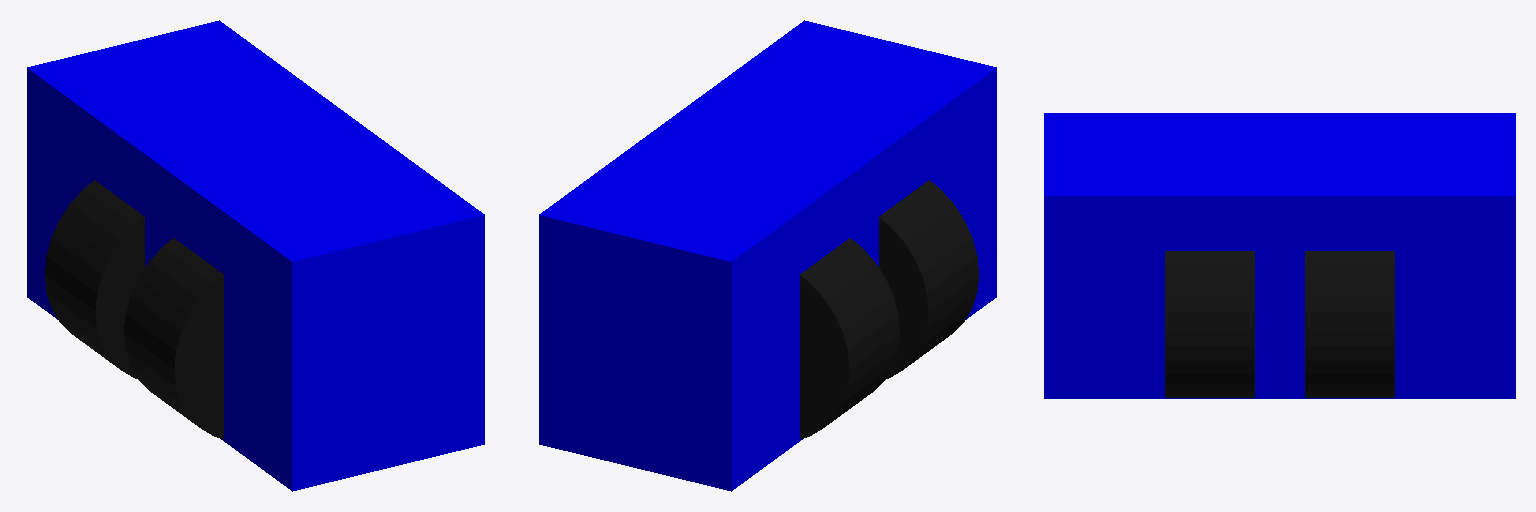
The robot description file, URDF, robot "skj":
<?xml version="1.0" ?>
<!-- =================================================================================== -->
<!-- |    This document was autogenerated by xacro from seekurjr.urdf.xacro            | -->
<!-- |    EDITING THIS FILE BY HAND IS NOT RECOMMENDED                                 | -->
<!-- =================================================================================== -->
<robot name="skj" xmlns:controller="http://playerstage.sourceforge.net/gazebo/xmlschema/#controller" xmlns:interface="http://playerstage.sourceforge.net/gazebo/xmlschema/#interface" xmlns:sensor="http://playerstage.sourceforge.net/gazebo/xmlschema/#sensor" xmlns:xacro="http://ros.org/wiki/xacro">
  <!-- Chassis -->
  <link name="base_link">
    <inertial>
      <mass value="63.2"/>
      <origin xyz="0 0 0.177"/>
      <inertia ixx="0.3338" ixy="0.0" ixz="0.0" iyy="0.4783" iyz="0.0" izz="0.3338"/>
    </inertial>
    <visual name="skj_base_visual">
      <origin rpy="0 0 0" xyz="0 0 0.177"/>
      <geometry name="skj_geom">
        <!-- mesh filename="package://amr_robots_description/meshes/seekurjr_meshes/body.stl"/ -->
        <box size="0.440 1.050 0.500"/>
      </geometry>
      <material name="BodyBlue">
        <color rgba="0.0 0.0 1.0 1.0"/>
      </material>
    </visual>
    <collision>
      <origin rpy="0 0 0" xyz="0 0 0.177"/>
      <geometry>
        <!-- mesh filename="package://amr_robots_description/meshes/seekurjr_meshes/body_collision.stl"/ -->
        <box size="0.440 1.050 0.500"/>
      </geometry>
    </collision>
  </link>
  <gazebo reference="base_link">
    <material value="Gazebo/Blue"/>
  </gazebo>
  <link name="skj_front_left_wheel">
    <inertial>
      <mass value="4.2"/>
      <origin xyz="0 0 0"/>
      <inertia ixx="0.012411765597" ixy="0" ixz="0" iyy="0.015218160428" iyz="0" izz="0.011763977943"/>
    </inertial>
    <visual name="base_visual">
      <origin rpy="-1.570795 0 0" xyz="0 0 0"/>
      <geometry name="skj_wheel_geom">
        <!-- mesh filename="package://amr_robots_description/meshes/skj_meshes/wheel.stl"/ -->
        <cylinder length="0.2" radius="0.2"/>
      </geometry>
      <material name="WheelBlack">
        <color rgba="0.117 0.117 0.117 1"/>
      </material>
    </visual>
    <collision>
      <origin rpy="-1.57079635 0 0" xyz="0 0 0"/>
      <geometry>
        <cylinder length="0.2" radius="0.2"/>
      </geometry>
    </collision>
  </link>
  <gazebo reference="skj_front_left_wheel">
    <material value="Gazebo/Black"/>
  </gazebo>
  <joint name="skj_front_left_wheel_joint" type="continuous">
    <axis xyz="0 1 0"/>
    <anchor xyz="0 0 0"/>
    <limit effort="100" velocity="100"/>
    <joint_properties damping="0.7"/>
    <origin rpy="0 0 0" xyz="-0.134 0.156 0.111"/>
    <parent link="base_link"/>
    <child link="skj_front_left_wheel"/>
  </joint>
  <gazebo reference="skj_front_left_wheel">
    <kp>1000000.0</kp>
    <!-- kp and kd for rubber -->
    <kd>100.0</kd>
    <mu1>1.0</mu1>
    <!-- was 10.0 -->
    <mu2>1.0</mu2>
    <!-- todo how to get these ODE params in: slip1, slip2 -->
    <!-- fdir1 0 1 0 /fdir1 -->
    <!-- see http://github.com/MobileRobots/amr-ros-config/issues/6 -->
    <maxVel>1.0</maxVel>
    <minDepth>0.00</minDepth>
    <material value="Gazebo/Black"/>
  </gazebo>
  <link name="skj_front_right_wheel">
    <inertial>
      <mass value="4.2"/>
      <origin xyz="0 0 0"/>
      <inertia ixx="0.012411765597" ixy="0" ixz="0" iyy="0.015218160428" iyz="0" izz="0.011763977943"/>
    </inertial>
    <visual name="base_visual">
      <origin rpy="-1.570795 0 0" xyz="0 0 0"/>
      <geometry name="skj_wheel_geom">
        <!-- mesh filename="package://amr_robots_description/meshes/skj_meshes/wheel.stl"/ -->
        <cylinder length="0.2" radius="0.2"/>
      </geometry>
      <material name="WheelBlack">
        <color rgba="0.117 0.117 0.117 1"/>
      </material>
    </visual>
    <collision>
      <origin rpy="-1.57079635 0 0" xyz="0 0 0"/>
      <geometry>
        <cylinder length="0.2" radius="0.2"/>
      </geometry>
    </collision>
  </link>
  <gazebo reference="skj_front_right_wheel">
    <material value="Gazebo/Black"/>
  </gazebo>
  <joint name="skj_front_right_wheel_joint" type="continuous">
    <axis xyz="0 1 0"/>
    <anchor xyz="0 0 0"/>
    <limit effort="100" velocity="100"/>
    <joint_properties damping="0.7"/>
    <origin rpy="0 0 0" xyz="-0.134 -0.156 0.111"/>
    <parent link="base_link"/>
    <child link="skj_front_right_wheel"/>
  </joint>
  <gazebo reference="skj_front_right_wheel">
    <kp>1000000.0</kp>
    <!-- kp and kd for rubber -->
    <kd>100.0</kd>
    <mu1>1.0</mu1>
    <!-- was 10.0 -->
    <mu2>1.0</mu2>
    <!-- todo how to get these ODE params in: slip1, slip2 -->
    <!-- fdir1 0 1 0 /fdir1 -->
    <!-- see http://github.com/MobileRobots/amr-ros-config/issues/6 -->
    <maxVel>1.0</maxVel>
    <minDepth>0.00</minDepth>
    <material value="Gazebo/Black"/>
  </gazebo>
  <link name="skj_back_left_wheel">
    <inertial>
      <mass value="4.2"/>
      <origin xyz="0 0 0"/>
      <inertia ixx="0.012411765597" ixy="0" ixz="0" iyy="0.015218160428" iyz="0" izz="0.011763977943"/>
    </inertial>
    <visual name="base_visual">
      <origin rpy="-1.570795 0 0" xyz="0 0 0"/>
      <geometry name="skj_wheel_geom">
        <!-- mesh filename="package://amr_robots_description/meshes/skj_meshes/wheel.stl"/ -->
        <cylinder length="0.2" radius="0.2"/>
      </geometry>
      <material name="WheelBlack">
        <color rgba="0.117 0.117 0.117 1"/>
      </material>
    </visual>
    <collision>
      <origin rpy="-1.57079635 0 0" xyz="0 0 0"/>
      <geometry>
        <cylinder length="0.2" radius="0.2"/>
      </geometry>
    </collision>
  </link>
  <gazebo reference="skj_back_left_wheel">
    <material value="Gazebo/Black"/>
  </gazebo>
  <joint name="skj_back_left_wheel_joint" type="continuous">
    <axis xyz="0 1 0"/>
    <anchor xyz="0 0 0"/>
    <limit effort="100" velocity="100"/>
    <joint_properties damping="0.7"/>
    <origin rpy="0 0 0" xyz="0.134 0.156 0.111"/>
    <parent link="base_link"/>
    <child link="skj_back_left_wheel"/>
  </joint>
  <gazebo reference="skj_back_left_wheel">
    <kp>1000000.0</kp>
    <!-- kp and kd for rubber -->
    <kd>100.0</kd>
    <mu1>1.0</mu1>
    <!-- was 10.0 -->
    <mu2>1.0</mu2>
    <!-- todo how to get these ODE params in: slip1, slip2 -->
    <!-- fdir1 0 1 0 /fdir1 -->
    <!-- see http://github.com/MobileRobots/amr-ros-config/issues/6 -->
    <maxVel>1.0</maxVel>
    <minDepth>0.00</minDepth>
    <material value="Gazebo/Black"/>
  </gazebo>
  <link name="skj_back_right_wheel">
    <inertial>
      <mass value="4.2"/>
      <origin xyz="0 0 0"/>
      <inertia ixx="0.012411765597" ixy="0" ixz="0" iyy="0.015218160428" iyz="0" izz="0.011763977943"/>
    </inertial>
    <visual name="base_visual">
      <origin rpy="-1.570795 0 0" xyz="0 0 0"/>
      <geometry name="skj_wheel_geom">
        <!-- mesh filename="package://amr_robots_description/meshes/skj_meshes/wheel.stl"/ -->
        <cylinder length="0.2" radius="0.2"/>
      </geometry>
      <material name="WheelBlack">
        <color rgba="0.117 0.117 0.117 1"/>
      </material>
    </visual>
    <collision>
      <origin rpy="-1.57079635 0 0" xyz="0 0 0"/>
      <geometry>
        <cylinder length="0.2" radius="0.2"/>
      </geometry>
    </collision>
  </link>
  <gazebo reference="skj_back_right_wheel">
    <material value="Gazebo/Black"/>
  </gazebo>
  <joint name="skj_back_right_wheel_joint" type="continuous">
    <axis xyz="0 1 0"/>
    <anchor xyz="0 0 0"/>
    <limit effort="100" velocity="100"/>
    <joint_properties damping="0.7"/>
    <origin rpy="0 0 0" xyz="0.134 -0.156 0.111"/>
    <parent link="base_link"/>
    <child link="skj_back_right_wheel"/>
  </joint>
  <gazebo reference="skj_back_right_wheel">
    <kp>1000000.0</kp>
    <!-- kp and kd for rubber -->
    <kd>100.0</kd>
    <mu1>1.0</mu1>
    <!-- was 10.0 -->
    <mu2>1.0</mu2>
    <!-- todo how to get these ODE params in: slip1, slip2 -->
    <!-- fdir1 0 1 0 /fdir1 -->
    <!-- see http://github.com/MobileRobots/amr-ros-config/issues/6 -->
    <maxVel>1.0</maxVel>
    <minDepth>0.00</minDepth>
    <material value="Gazebo/Black"/>
  </gazebo>
  <gazebo>
    <plugin filename="libgazebo_ros_skid_steer_drive.so" name="skid_steer_drive_controller">
      <updateRate>100.0</updateRate>
      <robotNamespace>/</robotNamespace>
      <leftFrontJoint>skj_front_left_wheel_joint</leftFrontJoint>
      <rightFrontJoint>skj_front_right_wheel_joint</rightFrontJoint>
      <leftRearJoint>skj_back_left_wheel_joint</leftRearJoint>
      <rightRearJoint>skj_back_right_wheel_joint</rightRearJoint>
      <wheelSeparation>0.68</wheelSeparation>
      <wheelDiameter>0.40</wheelDiameter>
      <robotBaseFrame>base_link</robotBaseFrame>
      <torque>400</torque>
      <MaxForce>5.0</MaxForce>
      <commandTopic>cmd_vel</commandTopic>
      <odometryTopic>odom</odometryTopic>
      <odometryFrame>odom</odometryFrame>
      <broadcastTF>1</broadcastTF>
    </plugin>
  </gazebo>
</robot>

--- Render facts (derived) ---
3 views of the same robot in one strip: view 1: azimuth 30°, elevation 25°; view 2: azimuth 150°, elevation 25°; view 3: azimuth 270°, elevation 25° (orthographic).
Robot: skj — 5 links, 4 joints (4 continuous); root link base_link; default pose: all joints at 0.
Visible links, largest first — view 1: base_link, skj_front_right_wheel, skj_front_left_wheel; view 2: base_link, skj_front_left_wheel, skj_front_right_wheel; view 3: base_link, skj_back_left_wheel, skj_back_right_wheel.
Boxes of the visible links, box(x1,y1,x2,y2) form: base_link: box(27, 20, 484, 491); skj_front_right_wheel: box(124, 238, 223, 438); skj_front_left_wheel: box(45, 180, 144, 378); base_link: box(539, 20, 996, 491); skj_front_left_wheel: box(800, 238, 899, 438); skj_front_right_wheel: box(879, 180, 978, 378); base_link: box(1044, 113, 1515, 398); skj_back_left_wheel: box(1305, 251, 1394, 397); skj_back_right_wheel: box(1165, 251, 1254, 397).
Size in the robot's own frame: 0.668 by 1.05 by 0.516 metres.
Geometry: primitives only (box / cylinder / sphere), no mesh files.
